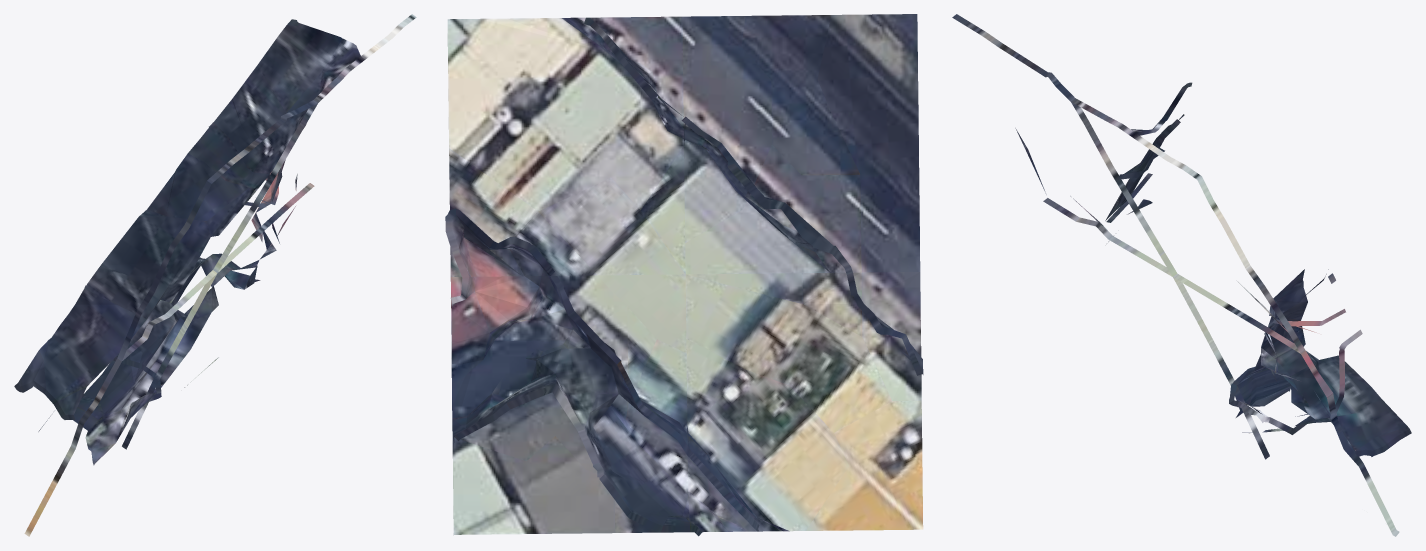
3 views of the same model, side by side, from view 1: azimuth 30°, elevation 25°; view 2: azimuth 150°, elevation 25°; view 3: azimuth 270°, elevation 25° (orthographic). The views are drawn at different scales.
Bounding box in the file's own units: 38.6 × 37.22 × 34.65.
1 material, 1 textured.
